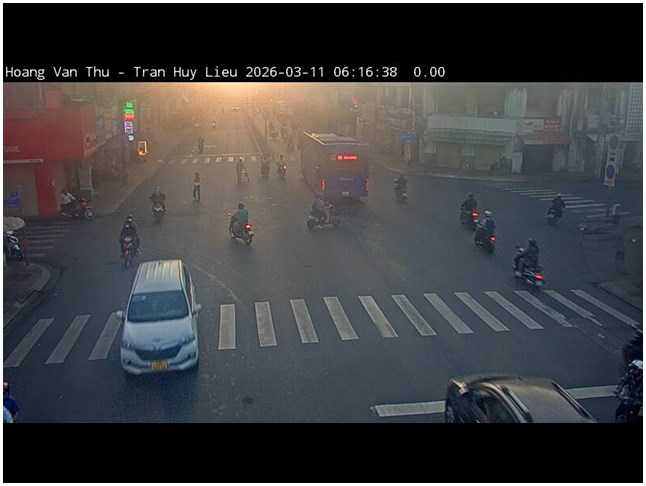car: (118, 256, 201, 375), (444, 372, 606, 422)
motorbike: (305, 196, 340, 232), (59, 189, 95, 220), (512, 256, 545, 286), (229, 216, 255, 245), (474, 224, 497, 254)
truck: (299, 130, 371, 201)
